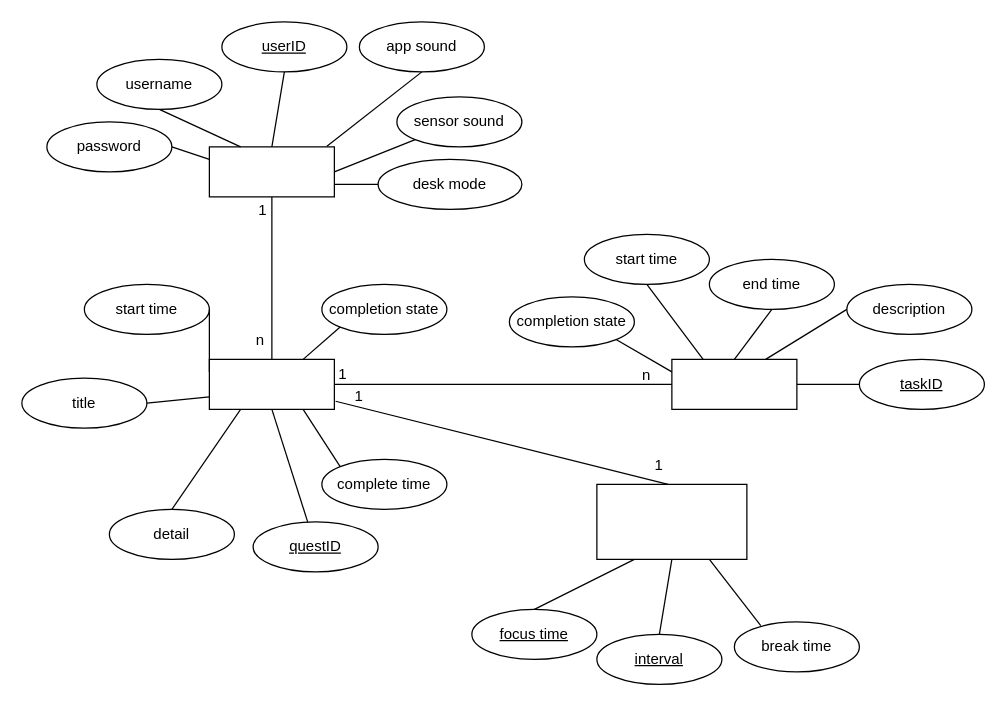
The diagram is 1006 pixels wide and 706 high, and some of its shapes have lost their labels. Here are the shapes that lost their labels. From the top down, the box of each, then its label:
(208, 146, 334, 197): USER
(208, 358, 334, 409): QUEST
(671, 358, 797, 409): Task
(596, 483, 747, 559): Pomodoro QUEST
